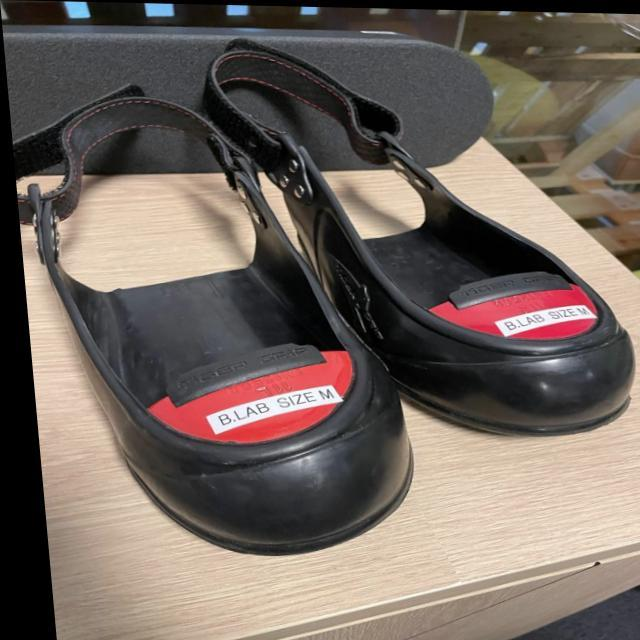shoes: (22, 76, 415, 569), (203, 39, 634, 443)
